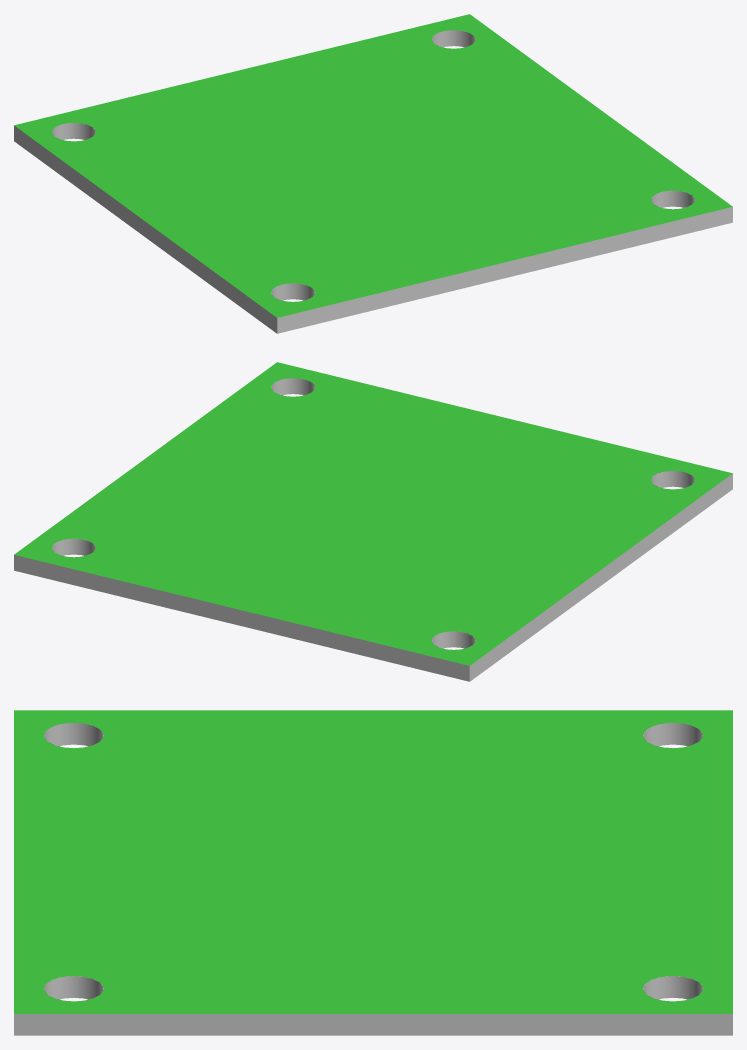
Rendered from ckt_board.dae.
The picture shows the model from 3 angles, top to bottom: view 1: azimuth 30°, elevation 25°; view 2: azimuth 150°, elevation 25°; view 3: azimuth 270°, elevation 25°; orthographic projection. The views are drawn at different scales.
Parts seen in each view (by area): view 1: ckt_board.001; view 2: ckt_board.001; view 3: ckt_board.001.
Part boxes in pixels (left/top/right/bottom): ckt_board.001: left=14, top=14, right=732, bottom=333; ckt_board.001: left=14, top=362, right=732, bottom=681; ckt_board.001: left=14, top=710, right=732, bottom=1035.
Size of the model in its own units: 0.09 by 0.09 by 0.003.
